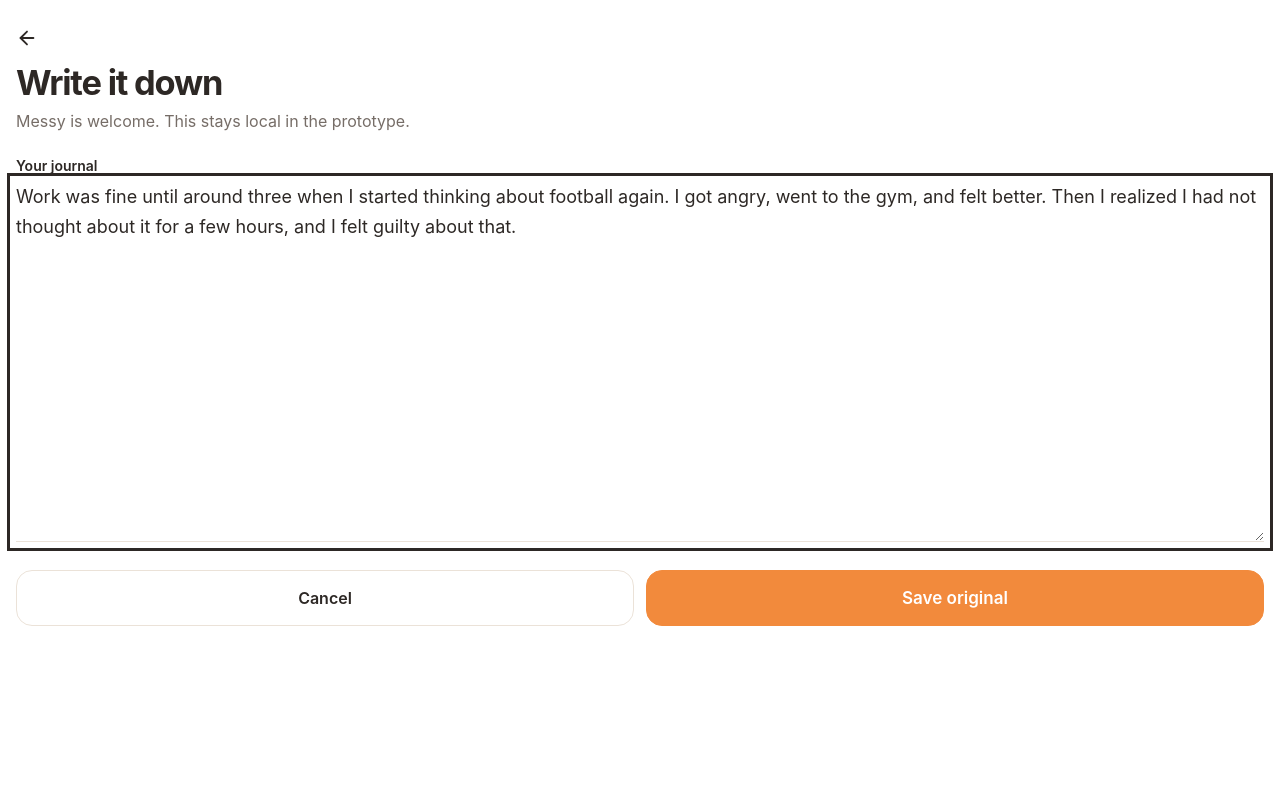
Test case: text journal › shows a deterministic summary without replacing the original
Click the button "Save original" at [955, 598], box [646,570,1264,626]
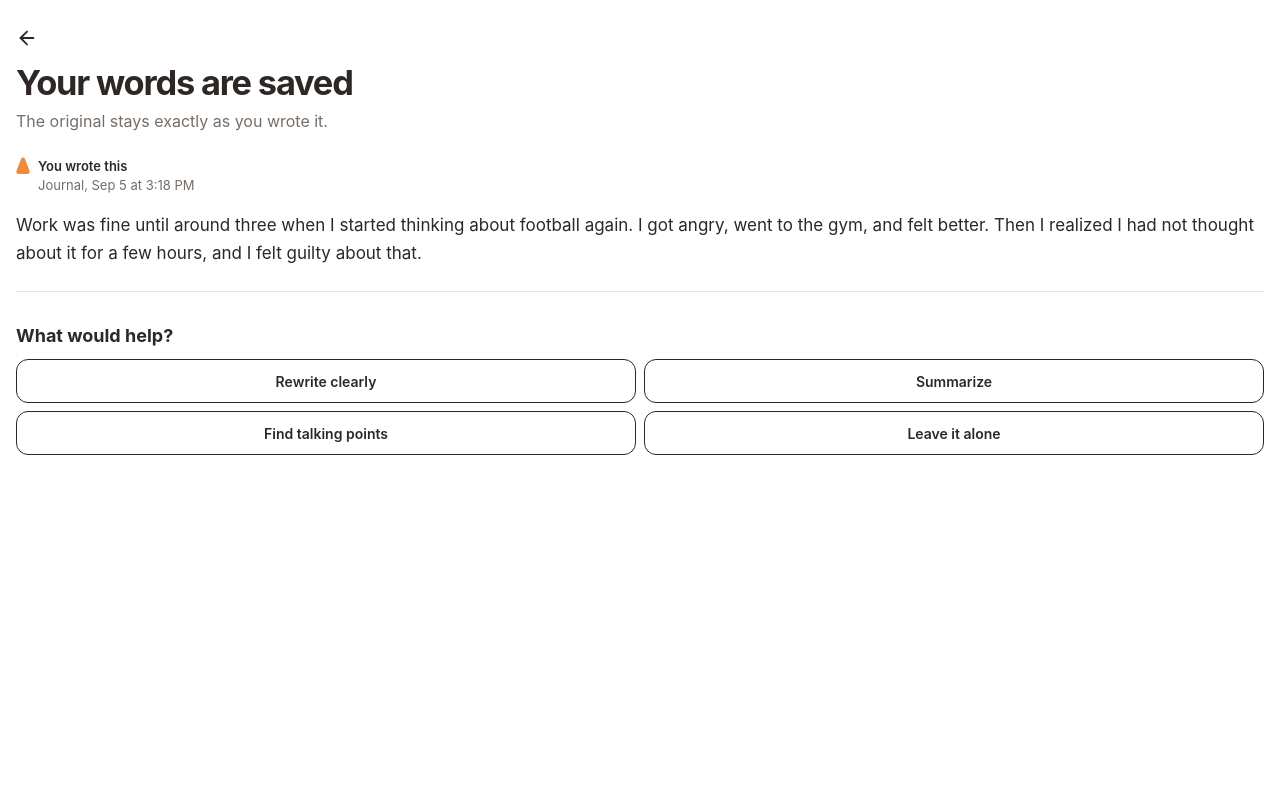
Expected: the heading "Your words are saved" is shown, [16,62,353,103]
Click the button "Summarize" at [954, 381], box [644,359,1264,403]
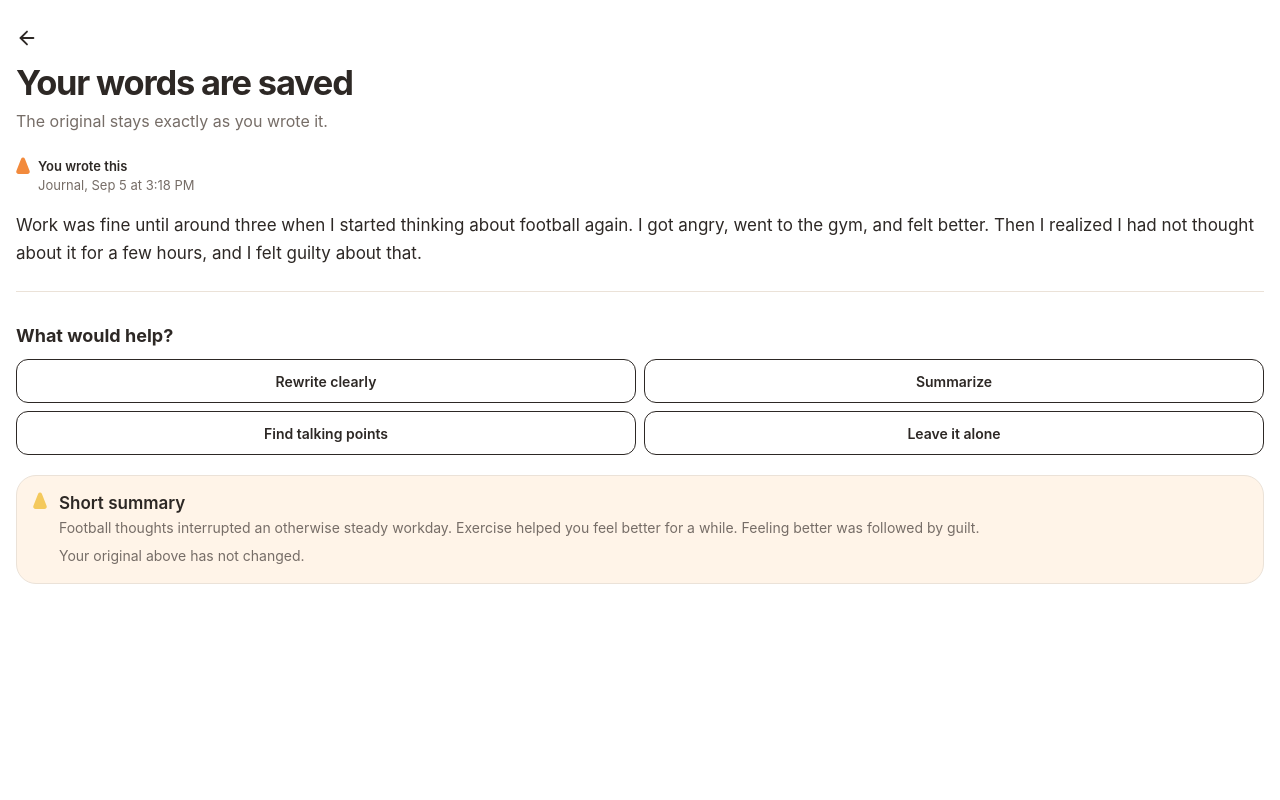
Expected: the heading "Short summary" is shown, [59,493,185,513]
Expected: the text "Your original above has not changed." is shown, [59,547,305,564]
